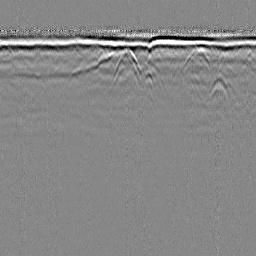cavity: (113, 48, 142, 76)
